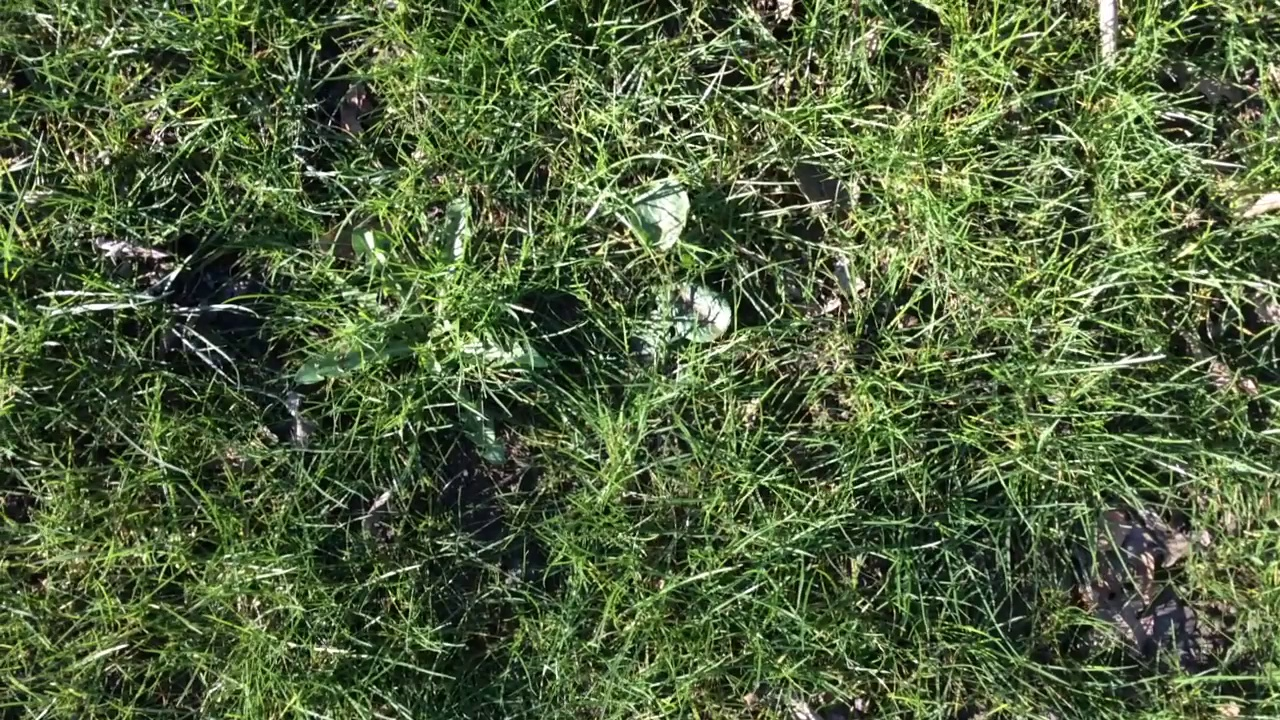rumex: (629, 179, 691, 257), (652, 286, 731, 341)
